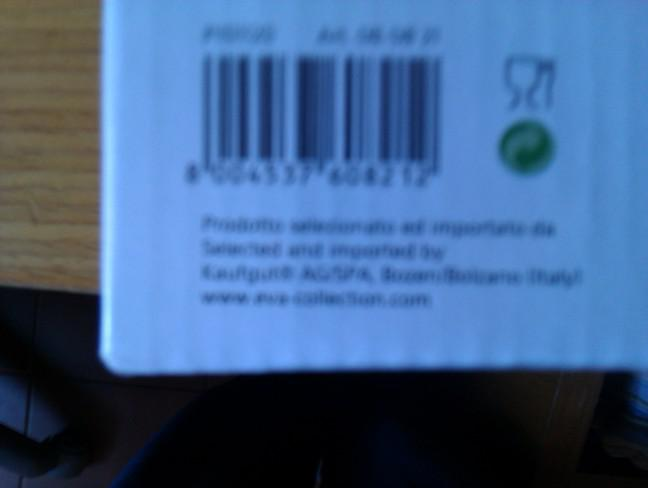Barkod: (159, 53, 459, 192)
